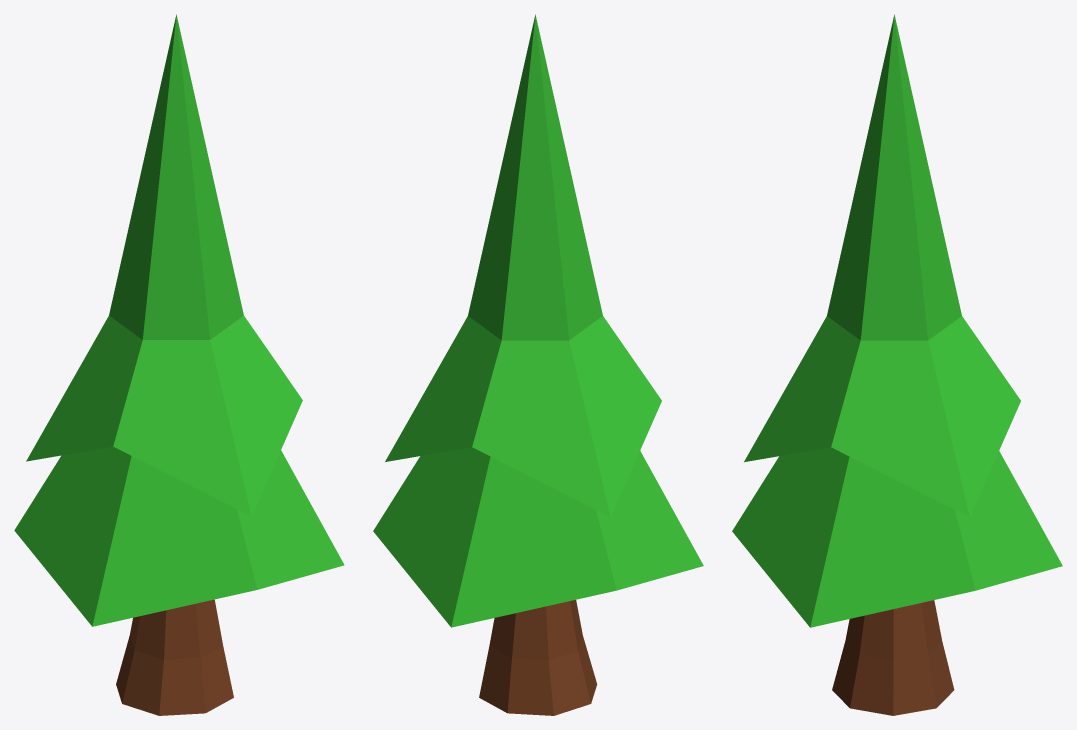
Rendered from treegood.fbx.
The picture shows the model from 3 angles, left to right: view 1: azimuth 30°, elevation 25°; view 2: azimuth 150°, elevation 25°; view 3: azimuth 270°, elevation 25°; orthographic projection.
Parts seen in each view (by area): view 1: Cylinder.001; view 2: Cylinder.001; view 3: Cylinder.001.
Boxes of the visible parts, left/top/right/bottom form: Cylinder.001: left=14, top=14, right=344, bottom=715; Cylinder.001: left=373, top=14, right=703, bottom=715; Cylinder.001: left=732, top=14, right=1062, bottom=715.
Size of the model in its own units: 603 by 1544 by 684.
